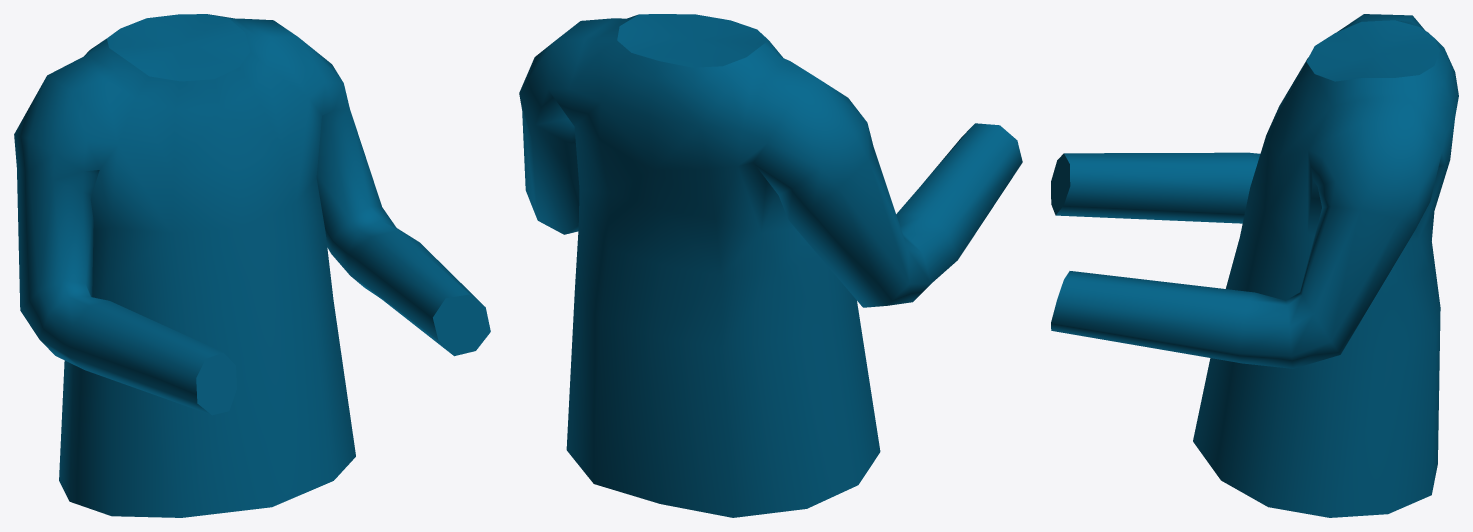
File: Racer_Jacket_02.fbx
3 renders of one model, left to right at view 1: azimuth 30°, elevation 25°; view 2: azimuth 150°, elevation 25°; view 3: azimuth 270°, elevation 25°, orthographic. The views are drawn at different scales.
Visible parts, largest first — view 1: Racer_Jacket_02; view 2: Racer_Jacket_02; view 3: Racer_Jacket_02.
Part boxes in pixels (left/top/right/bottom): Racer_Jacket_02: left=14, top=14, right=490, bottom=517; Racer_Jacket_02: left=519, top=14, right=1022, bottom=517; Racer_Jacket_02: left=1051, top=14, right=1458, bottom=517.
Bounding box in the file's own units: 46.22 × 45.49 × 51.06.
